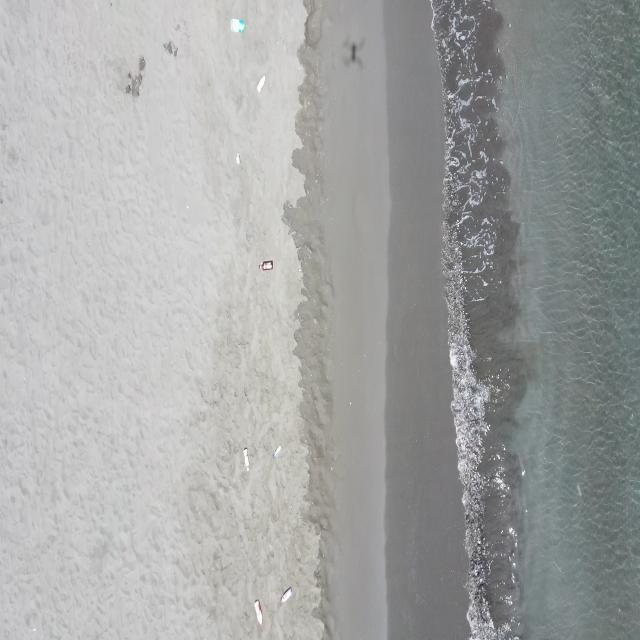Garbage: (124, 55, 144, 96), (163, 40, 176, 55), (253, 600, 261, 624), (280, 587, 292, 602), (231, 18, 243, 31), (256, 75, 264, 91), (260, 260, 272, 270), (272, 444, 280, 456), (243, 447, 247, 470), (235, 152, 239, 163)
